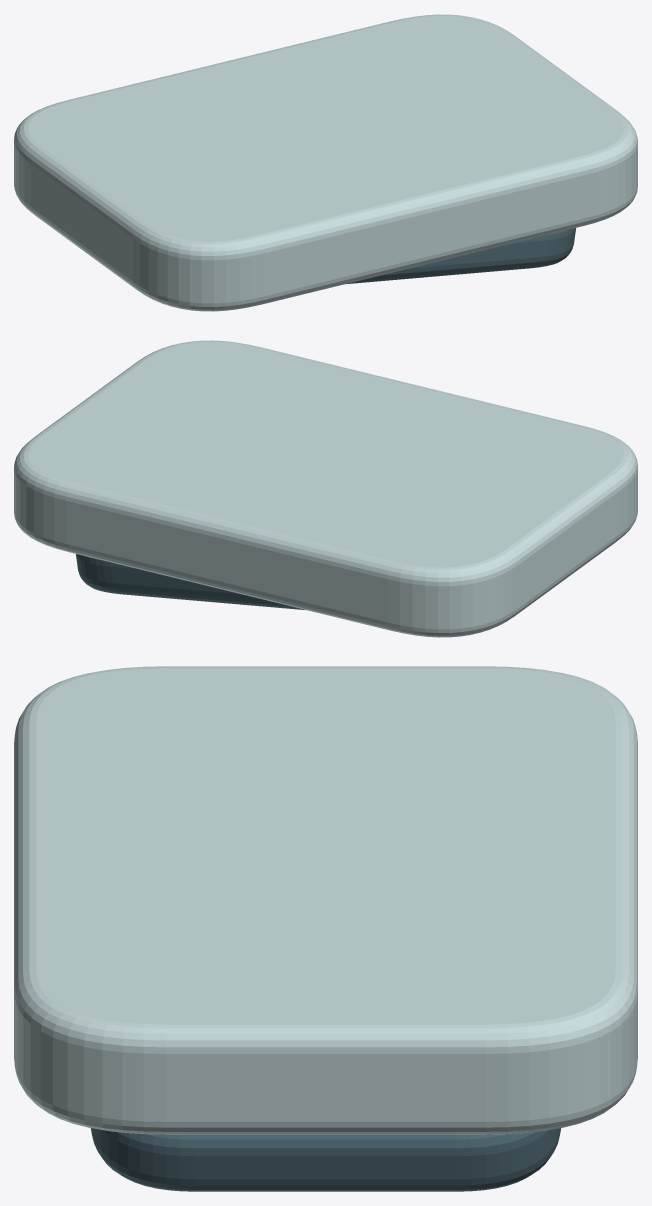
3 views of the same model, one above another, from view 1: azimuth 30°, elevation 25°; view 2: azimuth 150°, elevation 25°; view 3: azimuth 270°, elevation 25° (orthographic). The views are drawn at different scales.
Parts seen in each view (by area): view 1: environment-water, submerged-shelf; view 2: environment-water, submerged-shelf; view 3: environment-water, submerged-shelf.
Boxes of the visible parts, x1,y1,x2,y2 form: environment-water: (14, 14, 637, 311); submerged-shelf: (345, 228, 575, 284); environment-water: (14, 340, 637, 637); submerged-shelf: (76, 554, 306, 610); environment-water: (14, 666, 637, 1134); submerged-shelf: (90, 1128, 561, 1191).
Bounding box in the file's own units: 3.2 × 0.8126 × 2.25.
